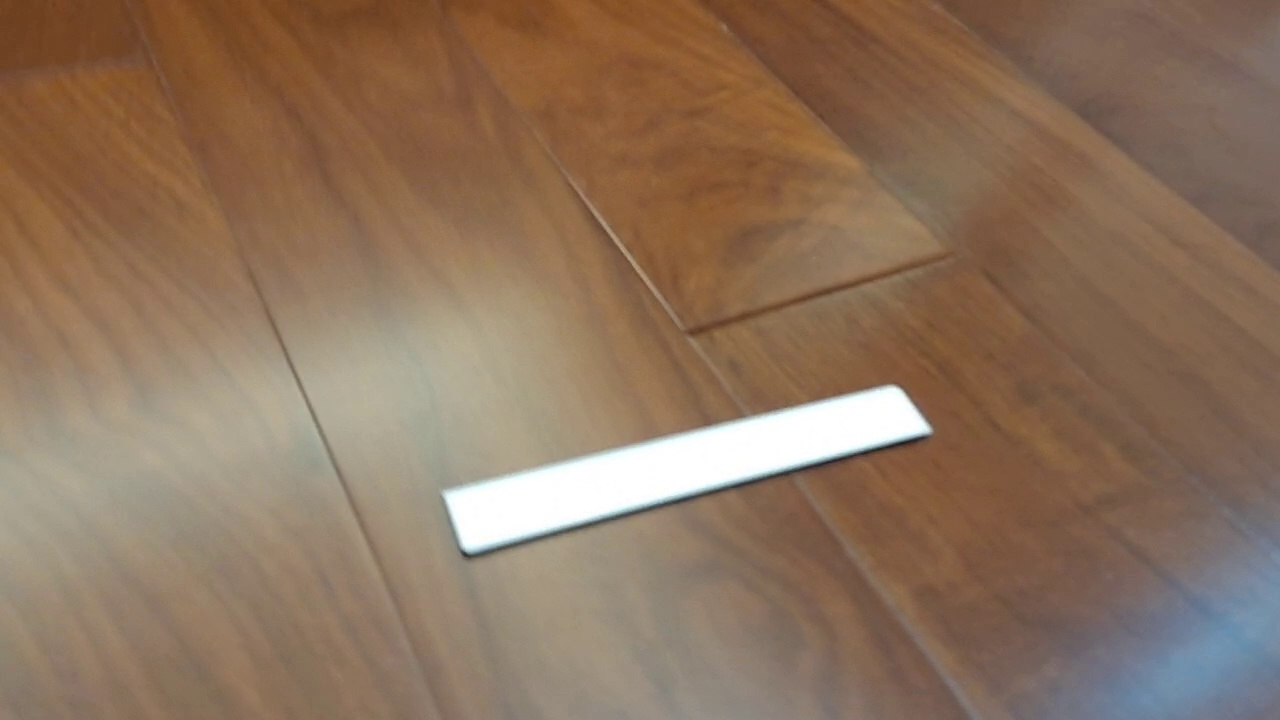ruler: (439, 382, 935, 561)
